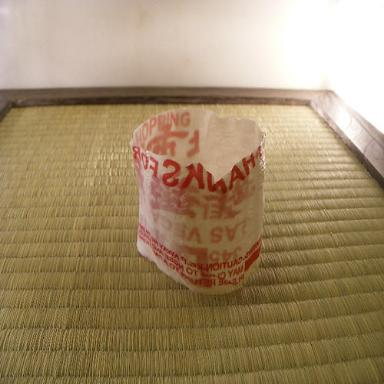plasticbag: (129, 107, 267, 291)
